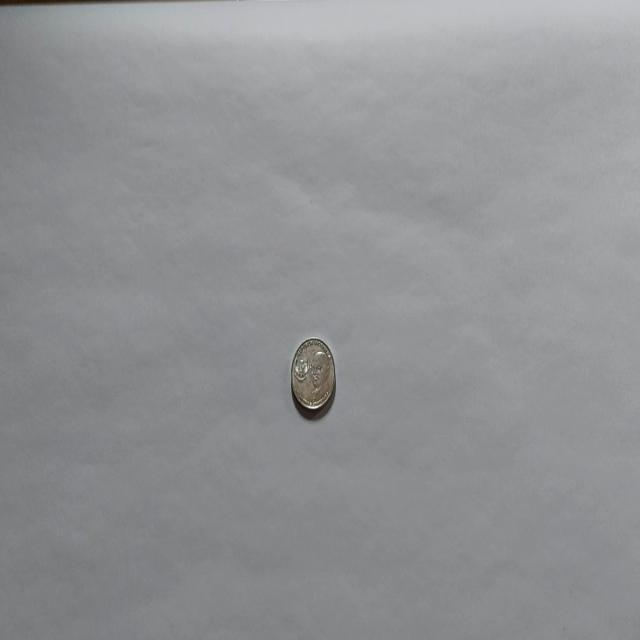lima ratus rupiah: (290, 335, 336, 413)
